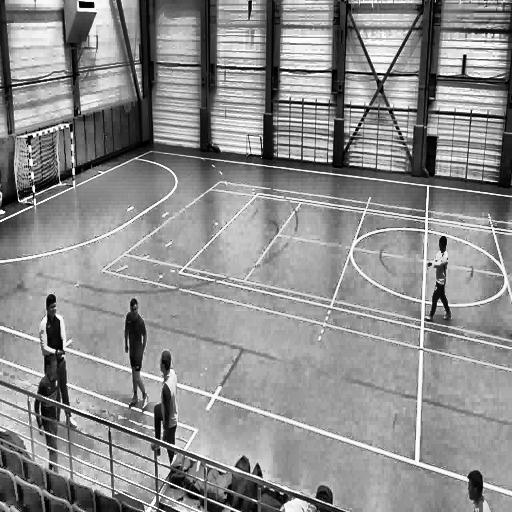player: (40, 296, 81, 430), (34, 355, 64, 469), (152, 350, 179, 472), (124, 297, 151, 408), (424, 235, 453, 328)
